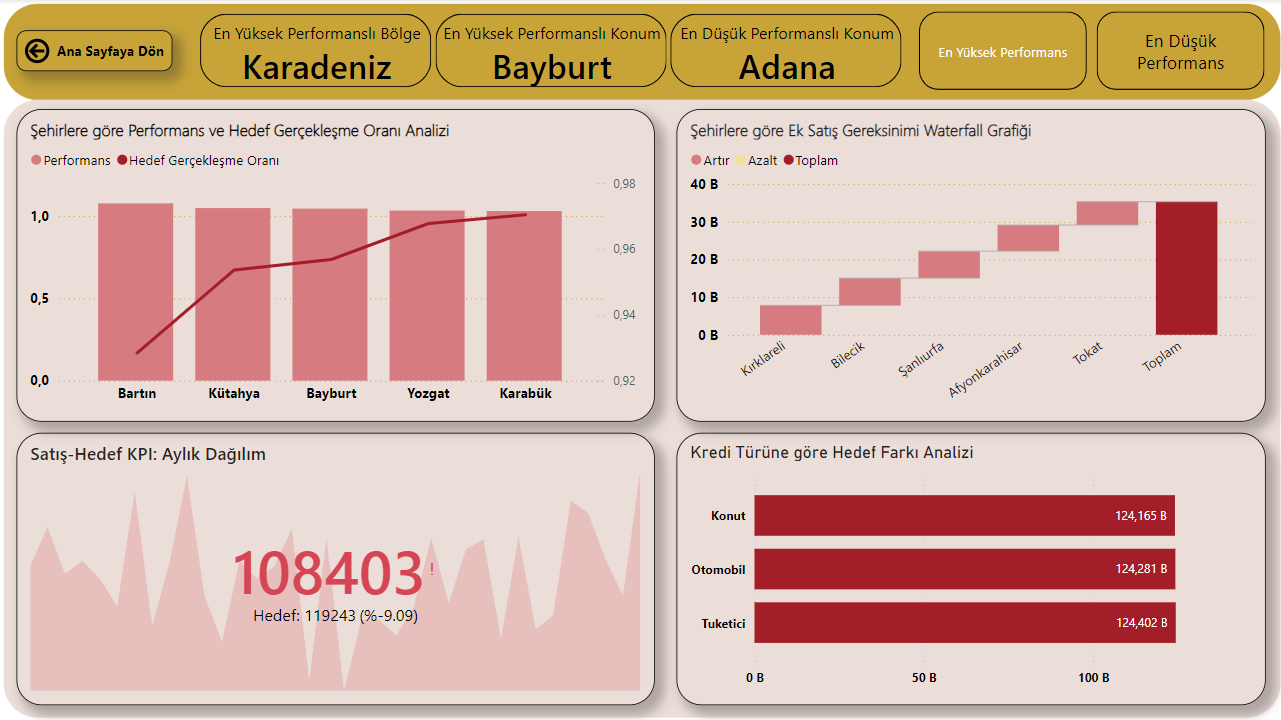

What the dashboard file says about the page in this screenshot:
{"tool":"powerbi","page":{"name":"Performans Analizi","canvas":[1280,720],"ordinal":2},"visuals":[{"type":"image","box":[0,0,1280.3,720.4],"z":0},{"type":"lineClusteredColumnComboChart","title":"Şehirlere göre Performans ve Hedef Gerçekleşme Oranı Analizi","fields":{"Category":["Şubeler.Konum"],"Y":["Krediler.Performans"],"Y2":["Krediler.Hedef Gerçekleşme Oranı"]},"box":[17.8,109.8,635.3,311.5],"z":1000},{"type":"bookmarkNavigator","box":[915.3,12.3,344.4,78.2],"z":3000},{"type":"waterfallChart","title":"Şehirlere göre Ek Satış Gereksinimi Waterfall Grafiği","fields":{"Y":["Krediler.Ek Satış Gereksinimi"],"Category":["Şubeler.Konum"]},"box":[673.7,109.5,586.1,310.8],"z":4000},{"type":"barChart","title":"Kredi Türüne göre Hedef Farkı Analizi","fields":{"Y":["Krediler.Hedef Farkı"],"Category":["Krediler.Kategori"]},"box":[673.7,431.3,586.1,271.1],"z":6000},{"type":"cardVisual","fields":{"Data":["Krediler.En Yüksek Performanslı Bölge","Krediler.En Yüksek Performanslı Konum","Krediler.En Düşük Performanslı Konum"]},"box":[194.9,9.6,708.1,83.7],"z":7000},{"type":"kpi","title":"Satış-Hedef KPI: Aylık Dağılım","fields":{"Indicator":["Krediler.Toplam Satış"],"TrendLine":["Krediler.Ay"],"Goal":["Krediler.Satış Hedefi"]},"box":[17.8,431.3,635.3,271.1],"z":8000},{"type":"actionButton","title":"Ana Sayfaya Dön","box":[17.8,31.6,155.1,41.2],"z":9000}]}

Visuals, with their boxes in screenshot pixels (x1, y1, x2, y2), scaled from the page's 1280x720 canvas onto the 1281x720 screenshot:
image: x1=0, y1=0, x2=1280, y2=719
"Şehirlere göre Performans ve Hedef Gerçekleşme Oranı Analizi" lineClusteredColumnComboChart: x1=18, y1=110, x2=654, y2=421
bookmarkNavigator: x1=916, y1=12, x2=1261, y2=90
"Şehirlere göre Ek Satış Gereksinimi Waterfall Grafiği" waterfallChart: x1=674, y1=110, x2=1261, y2=420
"Kredi Türüne göre Hedef Farkı Analizi" barChart: x1=674, y1=431, x2=1261, y2=702
cardVisual - Krediler.En Yüksek Performanslı Bölge x Krediler.En Yüksek Performanslı Konum: x1=195, y1=10, x2=904, y2=93
"Satış-Hedef KPI: Aylık Dağılım" kpi: x1=18, y1=431, x2=654, y2=702
"Ana Sayfaya Dön" actionButton: x1=18, y1=32, x2=173, y2=73
